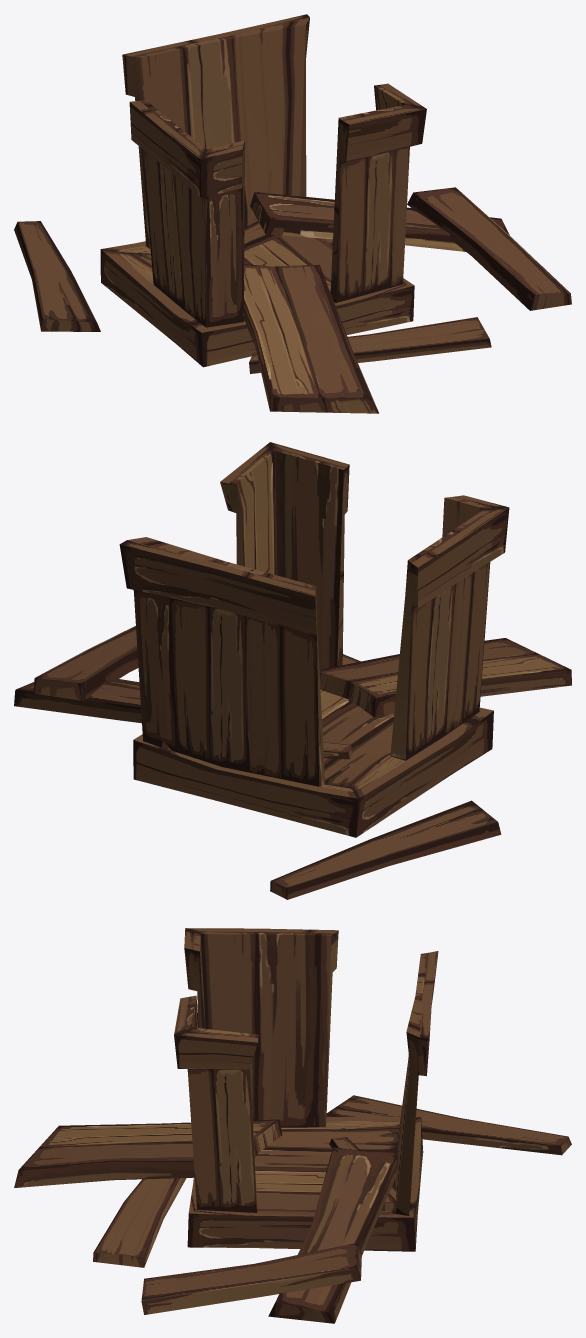
Rendered from Box_Broken.gltf.
3 views of the same model, one above another, from view 1: azimuth 30°, elevation 25°; view 2: azimuth 150°, elevation 25°; view 3: azimuth 270°, elevation 25° (orthographic). The views are drawn at different scales.
Visible parts, largest first — view 1: SM_PROP_box_dungeon_05; view 2: SM_PROP_box_dungeon_05; view 3: SM_PROP_box_dungeon_05.
Part boxes in pixels (x1=…): SM_PROP_box_dungeon_05: x1=14, y1=14, x2=571, y2=413; SM_PROP_box_dungeon_05: x1=14, y1=442, x2=571, y2=899; SM_PROP_box_dungeon_05: x1=14, y1=928, x2=571, y2=1323.
Bounding box in the file's own units: 1.83 × 0.8508 × 1.97.
Materials: 1 (1 with a texture image).
